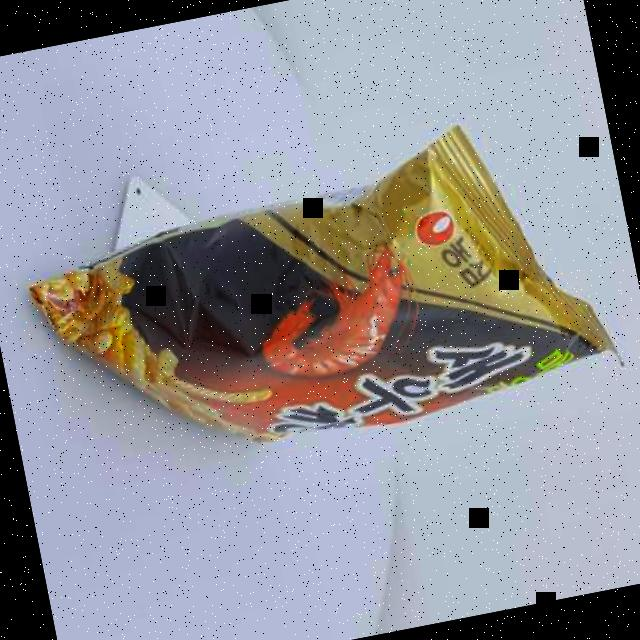snack_bag: (10, 99, 640, 517)
